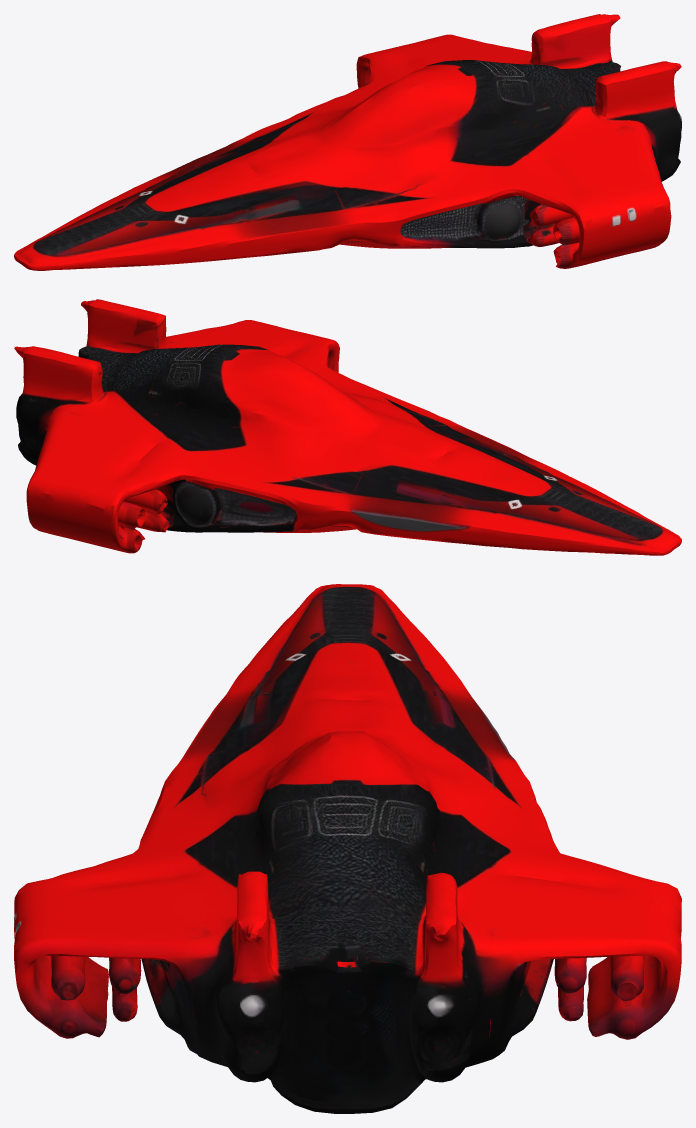
Rendered from ship12.glb.
The picture shows the model from 3 angles, top to bottom: view 1: azimuth 30°, elevation 25°; view 2: azimuth 150°, elevation 25°; view 3: azimuth 270°, elevation 25°; orthographic projection. The views are drawn at different scales.
Visible parts, largest first — view 1: Mesh0; view 2: Mesh0; view 3: Mesh0.
Part boxes in pixels (left/top/right/bottom): Mesh0: left=14, top=14, right=681, bottom=270; Mesh0: left=14, top=299, right=681, bottom=555; Mesh0: left=14, top=584, right=681, bottom=1113.
Size of the model in its own units: 1.91 by 0.4952 by 1.19.
Materials: 1 (1 with a texture image).
